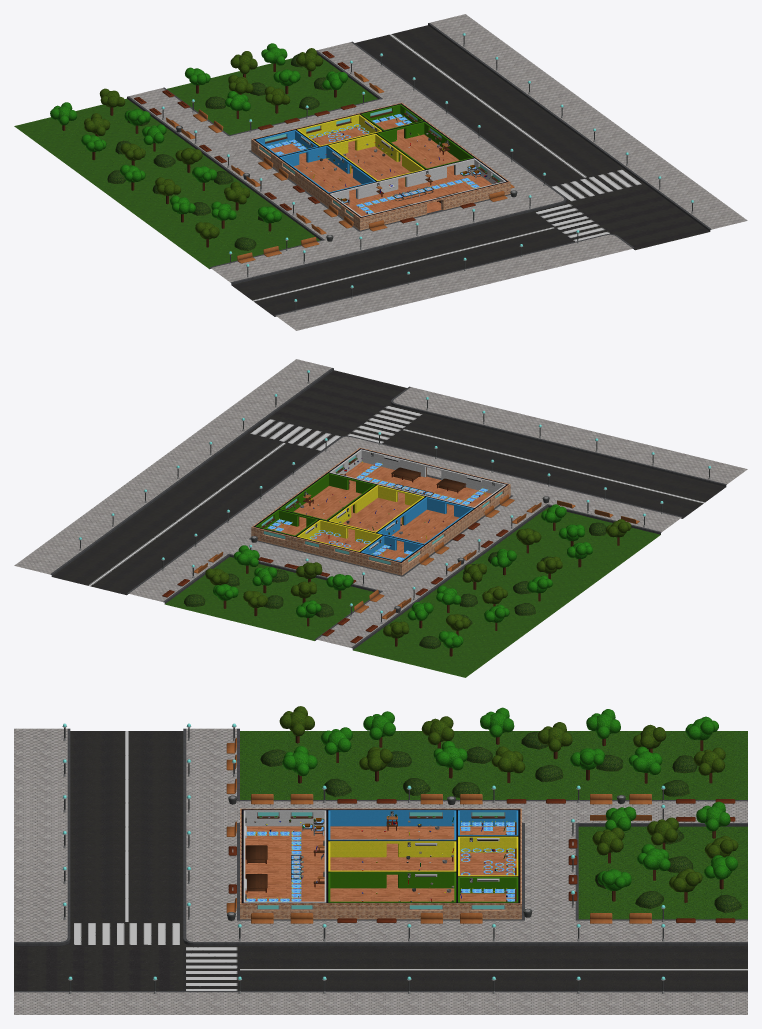
The model's file is Shop.fbx.
3 renders of one model, top to bottom at view 1: azimuth 30°, elevation 25°; view 2: azimuth 150°, elevation 25°; view 3: azimuth 270°, elevation 25°, orthographic. The views are drawn at different scales.
Parts seen in each view (by area): view 1: FlowerShop, FlowerShopLightAndGlass; view 2: FlowerShop, FlowerShopLightAndGlass; view 3: FlowerShop, FlowerShopLightAndGlass.
Boxes of the visible parts, bbox=[...] form: FlowerShop: bbox=[14, 14, 747, 330]; FlowerShopLightAndGlass: bbox=[266, 114, 481, 214]; FlowerShop: bbox=[14, 359, 747, 677]; FlowerShopLightAndGlass: bbox=[266, 462, 488, 560]; FlowerShop: bbox=[14, 706, 747, 1014]; FlowerShopLightAndGlass: bbox=[246, 818, 515, 901].
Size of the model in its own units: 12000 by 657 by 13000.
